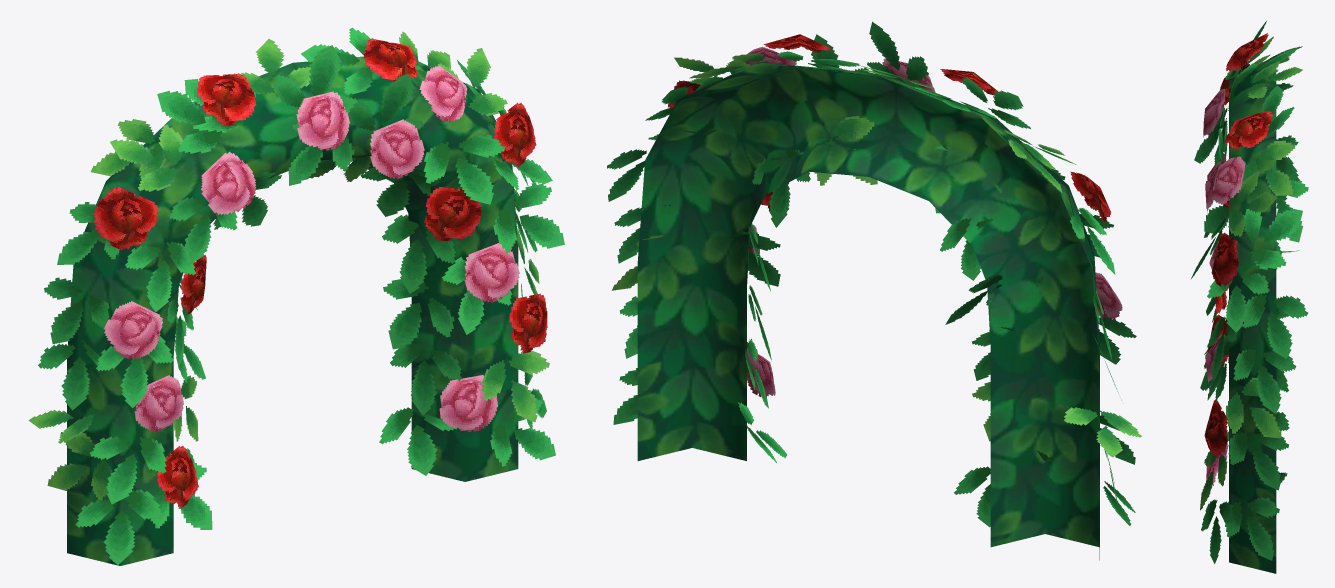
Rendered from flower-arch.glb.
3 views of the same model, side by side, from view 1: azimuth 30°, elevation 25°; view 2: azimuth 150°, elevation 25°; view 3: azimuth 270°, elevation 25° (orthographic). The views are drawn at different scales.
Parts seen in each view (by area): view 1: vsn_mesh_0__mesh_0_.001, vsn_mesh_1__mesh_1_; view 2: vsn_mesh_1__mesh_1_, vsn_mesh_0__mesh_0_.001; view 3: vsn_mesh_0__mesh_0_.001, vsn_mesh_1__mesh_1_.
Part boxes in pixels (box(x1,y1,x2,y2)): vsn_mesh_0__mesh_0_.001: box(28, 27, 564, 564); vsn_mesh_1__mesh_1_: box(67, 56, 518, 565); vsn_mesh_1__mesh_1_: box(637, 62, 1099, 560); vsn_mesh_0__mesh_0_.001: box(607, 21, 1141, 527); vsn_mesh_0__mesh_0_.001: box(1191, 20, 1308, 563); vsn_mesh_1__mesh_1_: box(1229, 55, 1276, 573).
Size of the model in its own units: 94.88 by 82.38 by 23.91.
2 materials, 2 textured.
